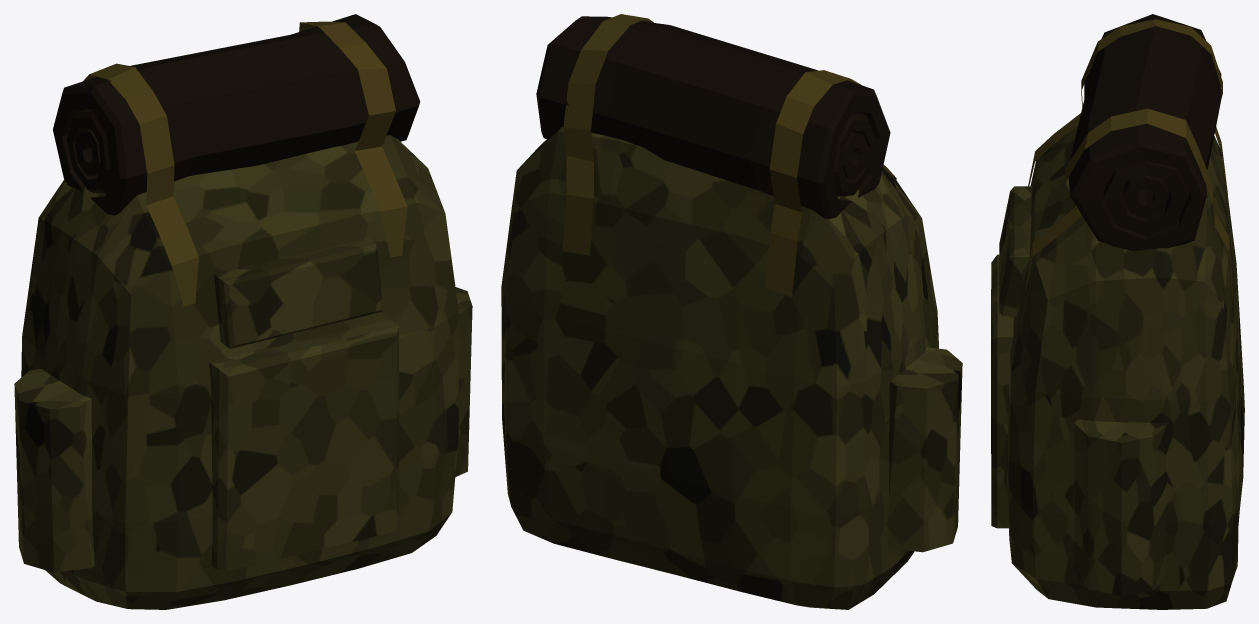
Rendered from Backpack.fbx.
3 views of the same model, side by side, from view 1: azimuth 30°, elevation 25°; view 2: azimuth 150°, elevation 25°; view 3: azimuth 270°, elevation 25° (orthographic). The views are drawn at different scales.
Visible parts, largest first — view 1: Backpack; view 2: Backpack; view 3: Backpack.
Part boxes in pixels (x1,y1,x2,y2): Backpack: (14, 14, 472, 609); Backpack: (501, 14, 962, 609); Backpack: (991, 14, 1244, 609).
Size of the model in its own units: 35.24 by 38.21 by 18.29.
